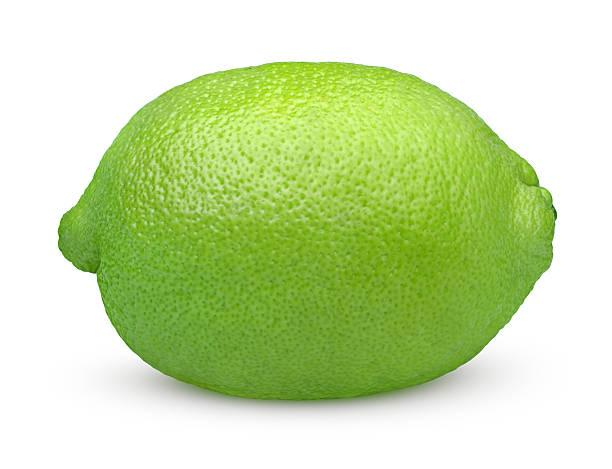lime: (43, 44, 566, 413)
